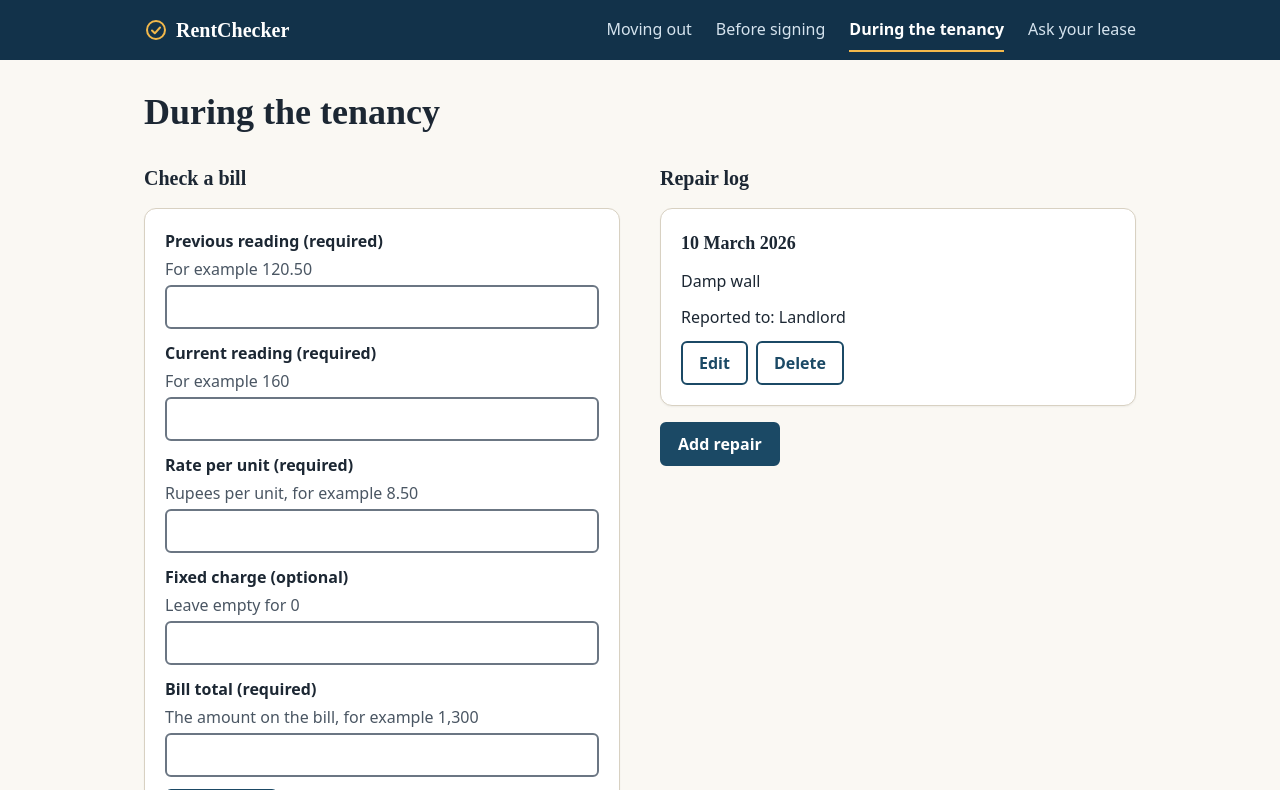
Scenario: Repair log › F5-R5 deleting an entry without a link says so without mentioning a link
Click the button with aria-label "Delete repair Damp wall" at (800, 363), box [756,341,844,385]
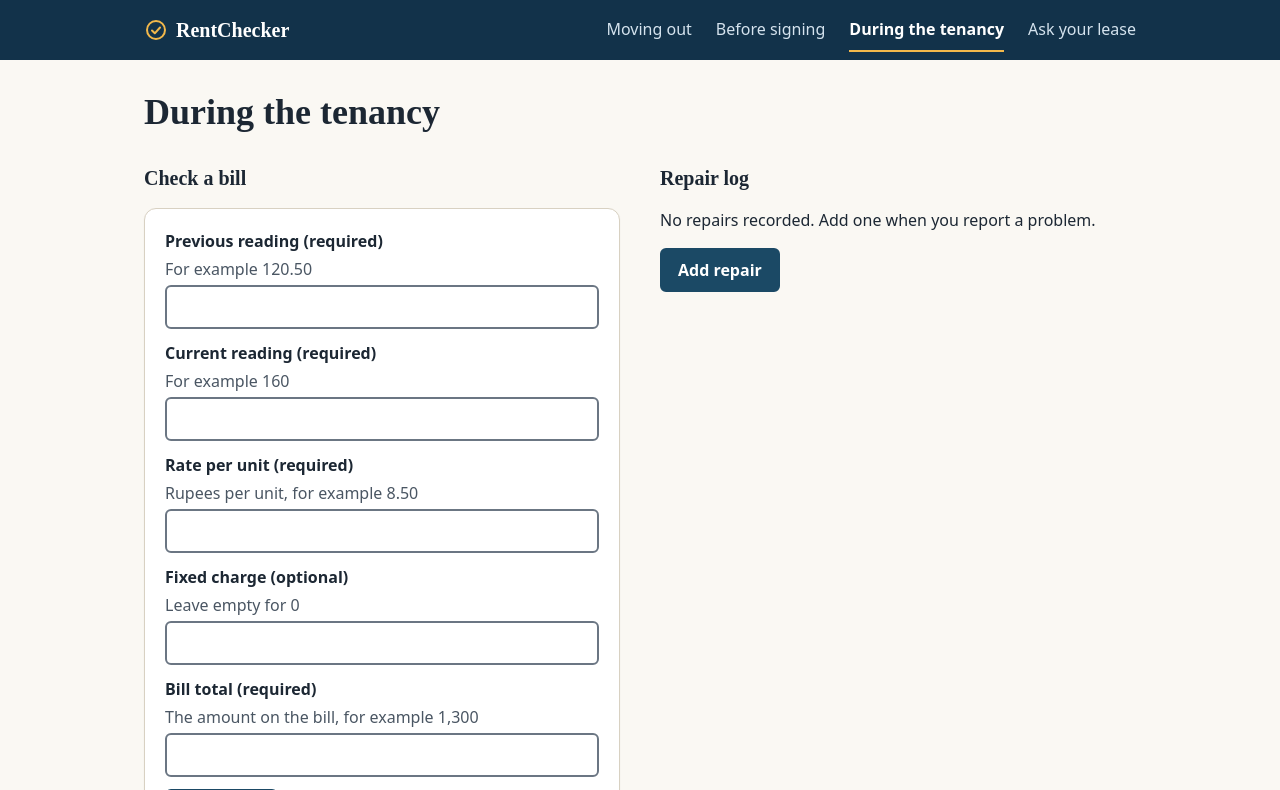
Now the heading "10 March 2026" is gone
